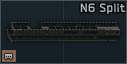AR-10 Noveske SWS N6 Split handguard: (0, 0, 127, 64)
